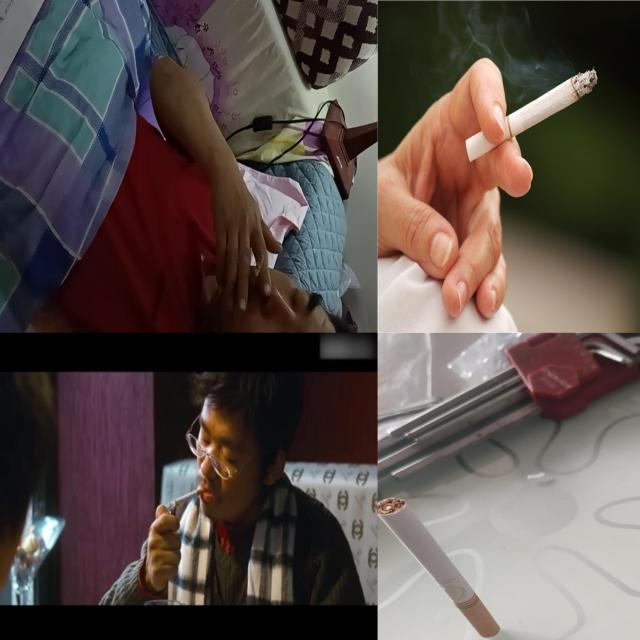cigarette: (377, 496, 503, 638), (461, 66, 598, 168), (172, 482, 206, 509), (251, 252, 264, 286)
